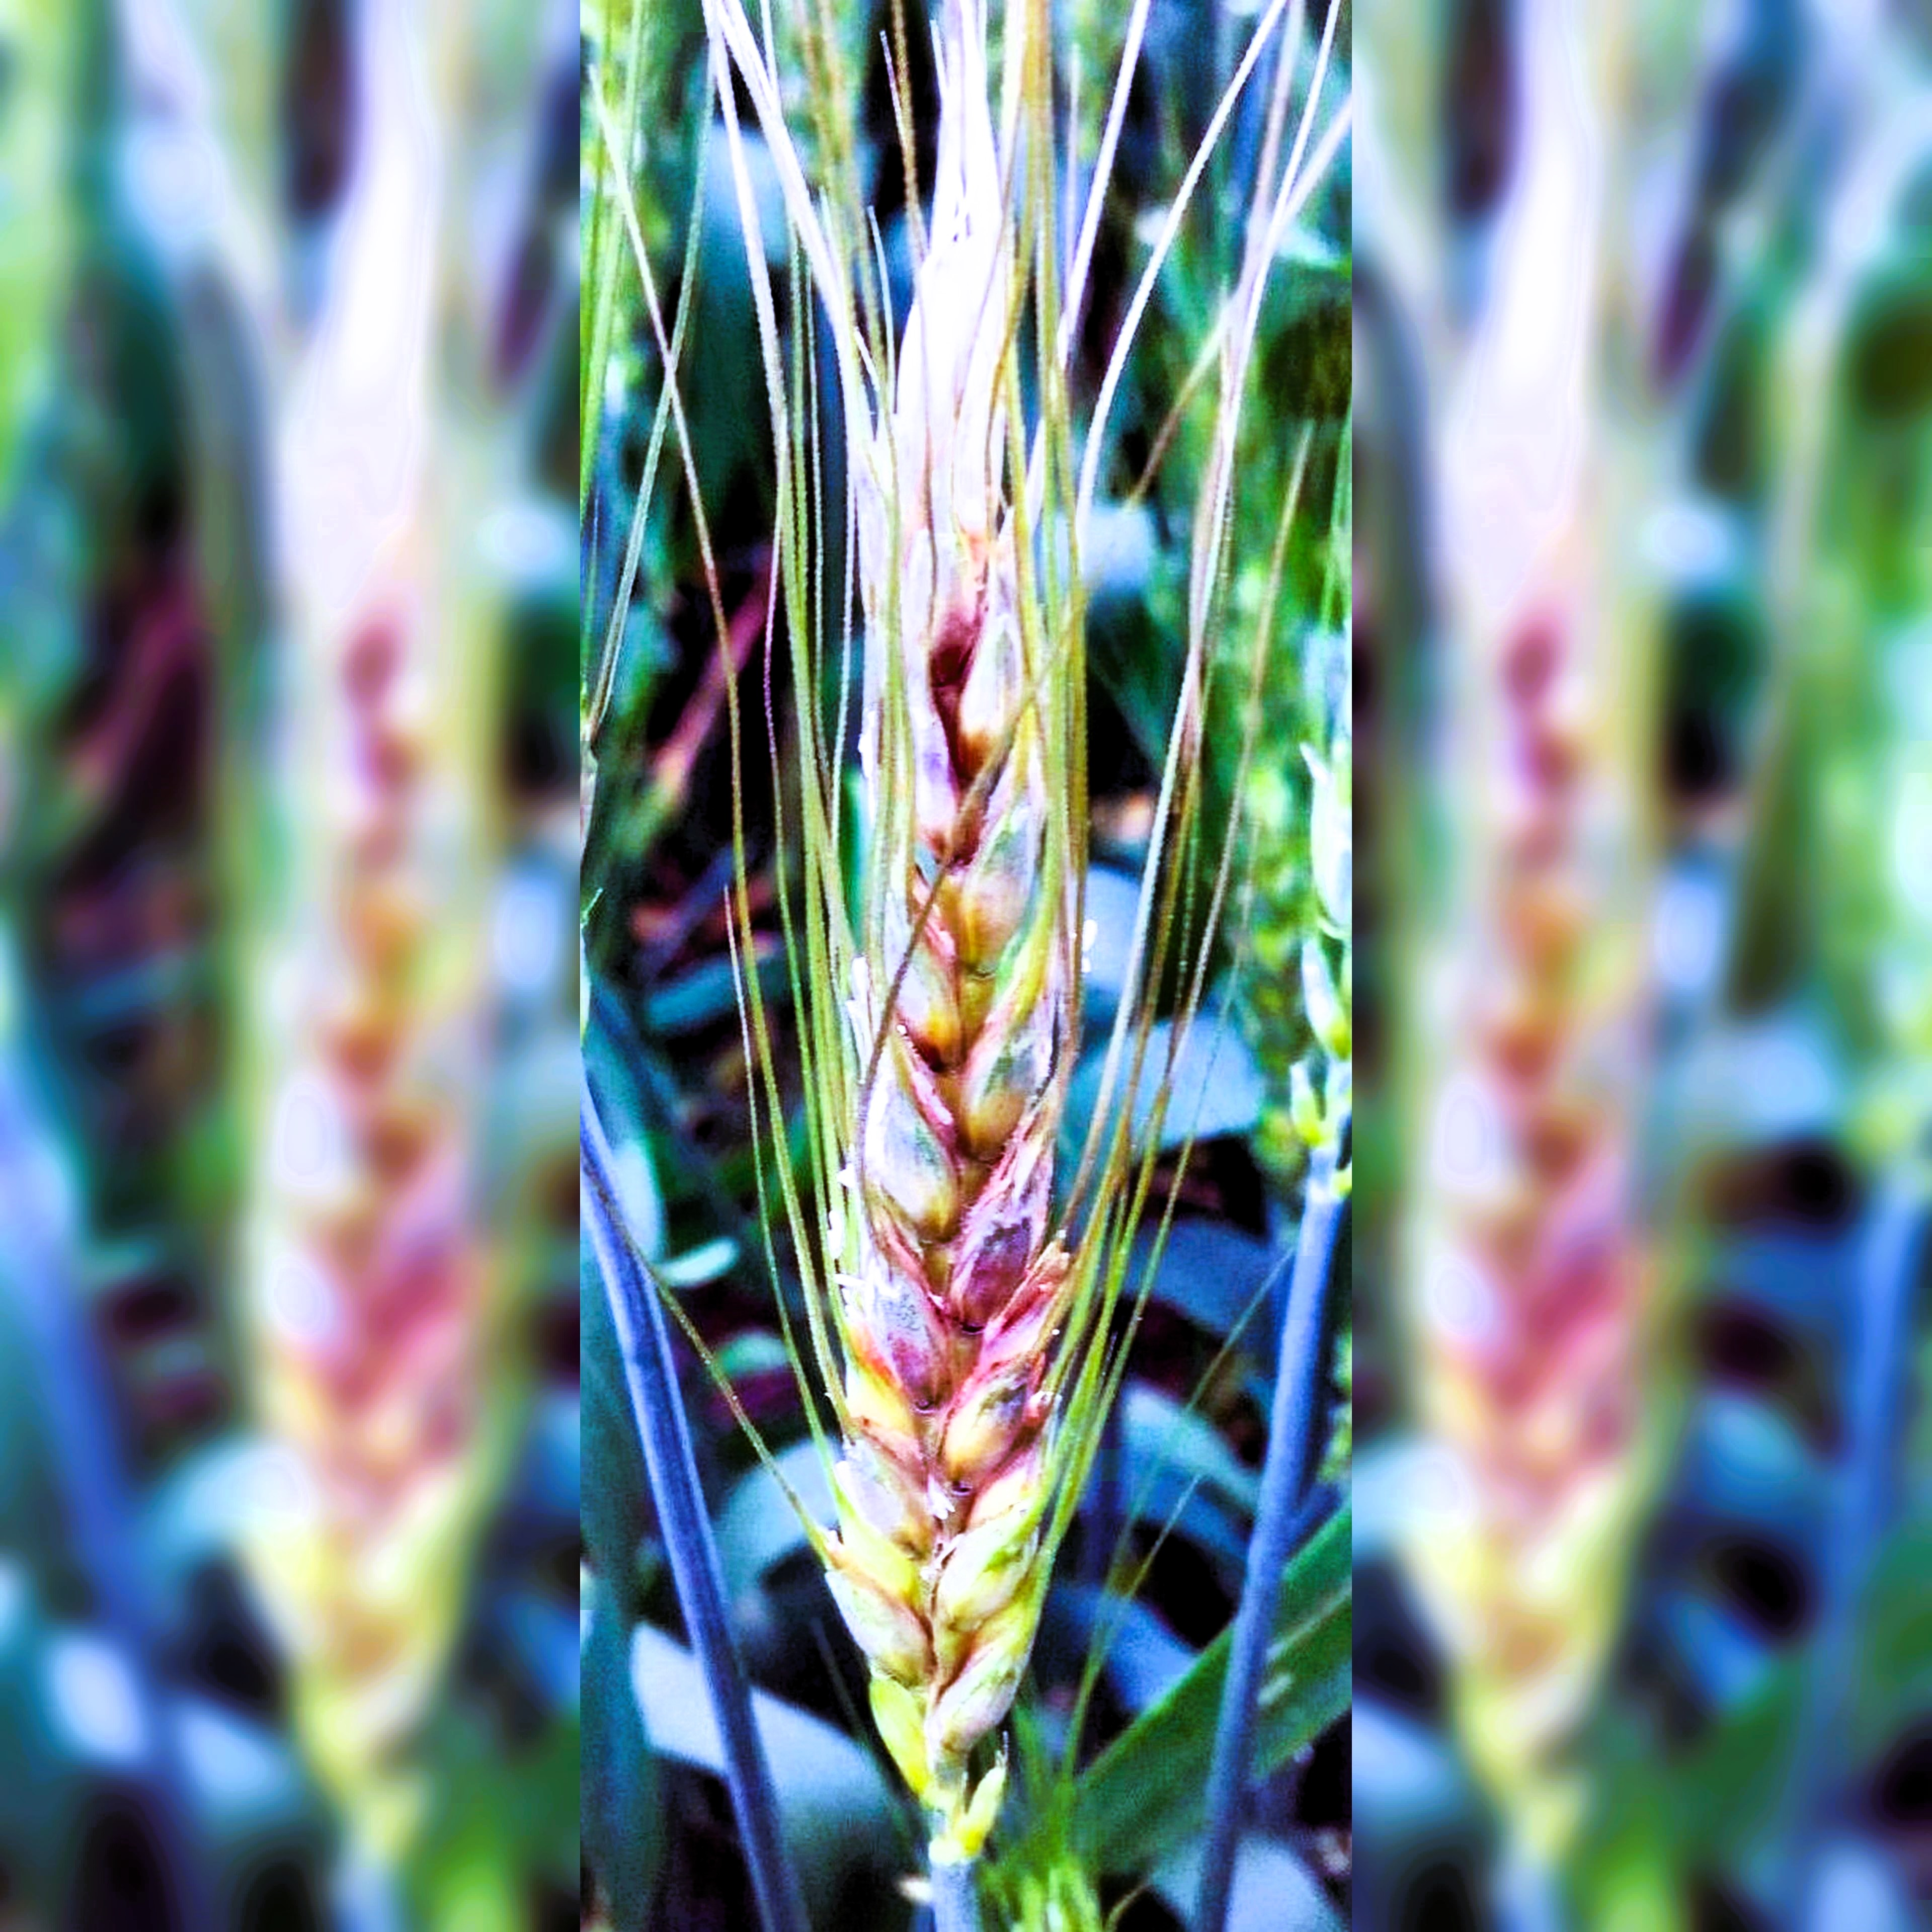Wheat scab: (743, 258, 1134, 1750)
